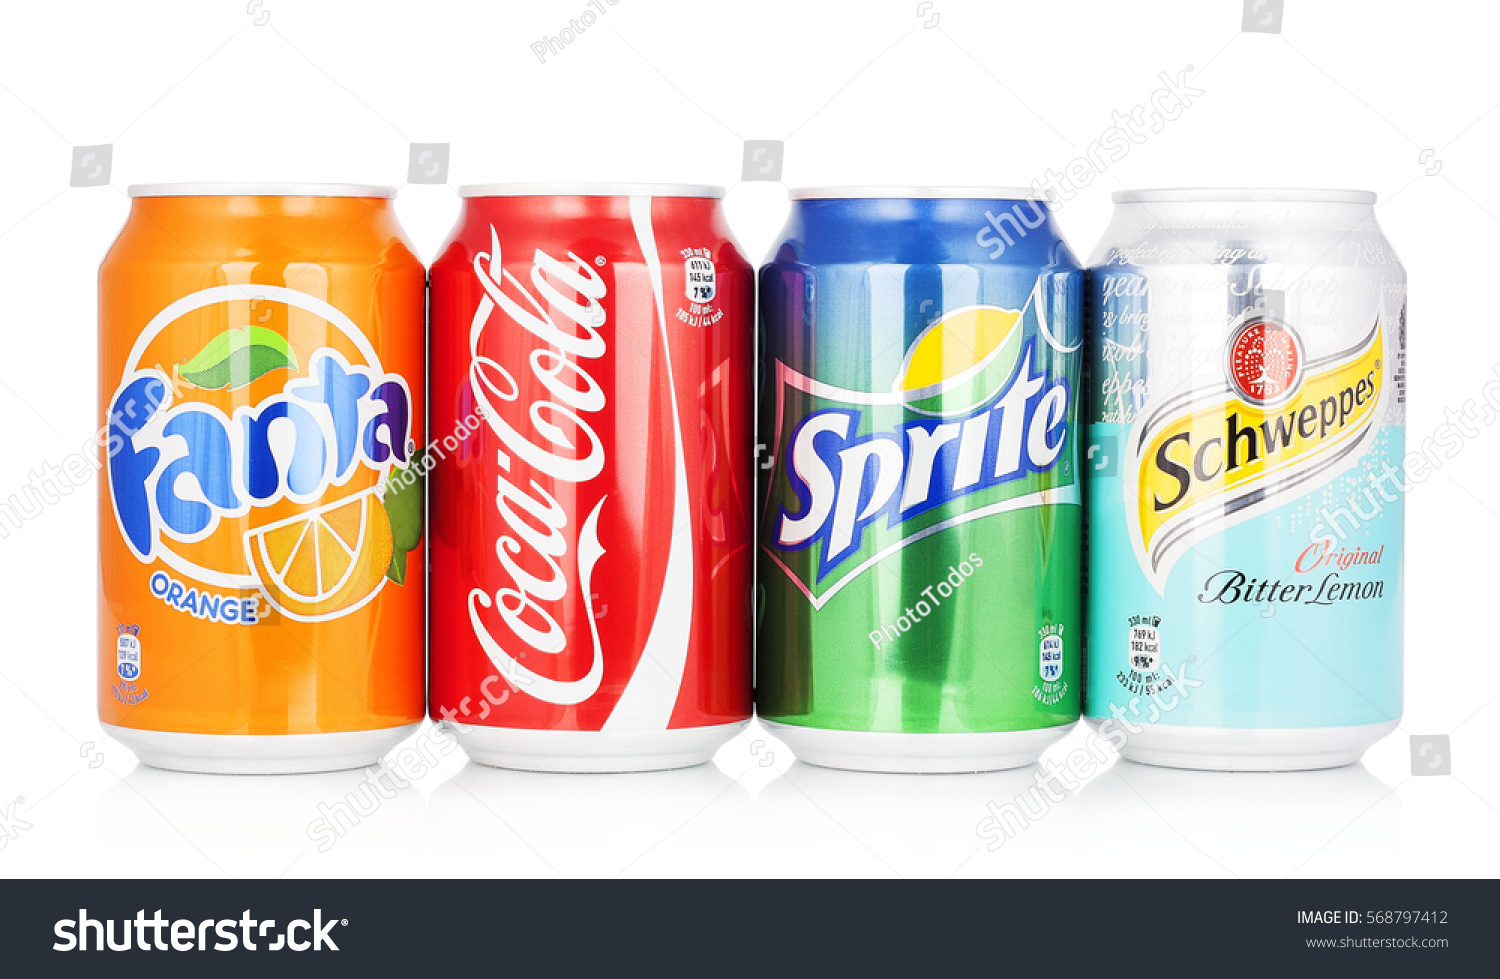fanta: (108, 189, 427, 753)
